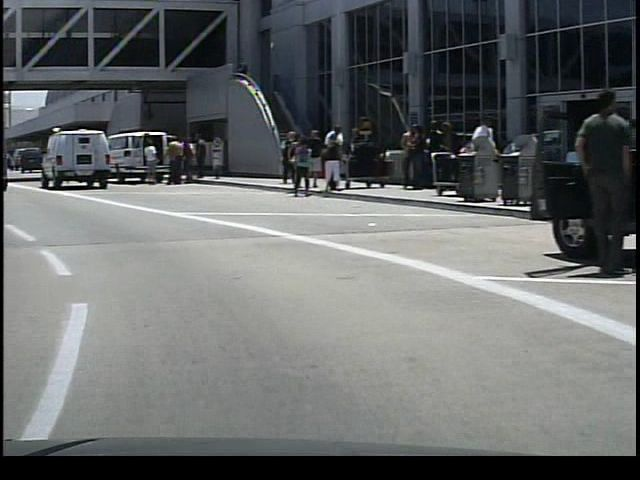person: (561, 86, 627, 276), (459, 108, 495, 204), (318, 122, 345, 191), (316, 137, 339, 194), (183, 132, 205, 180), (160, 135, 180, 187), (138, 134, 156, 186)
